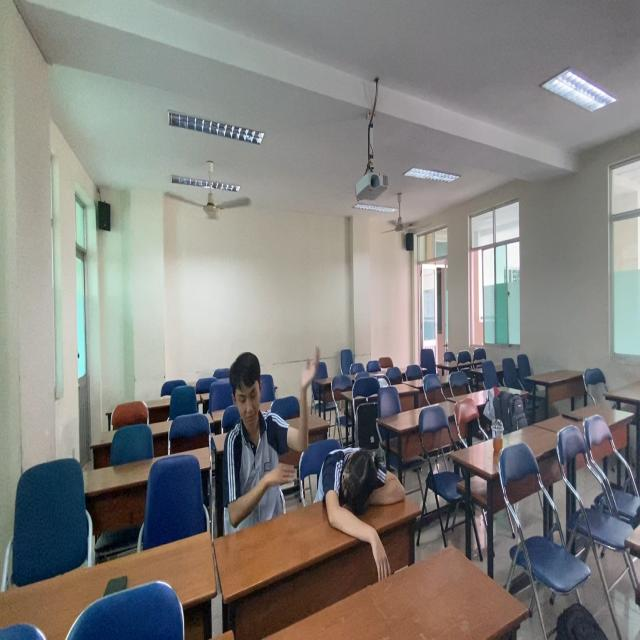raise_hand: (225, 334, 322, 519)
sleep: (316, 430, 408, 545)
